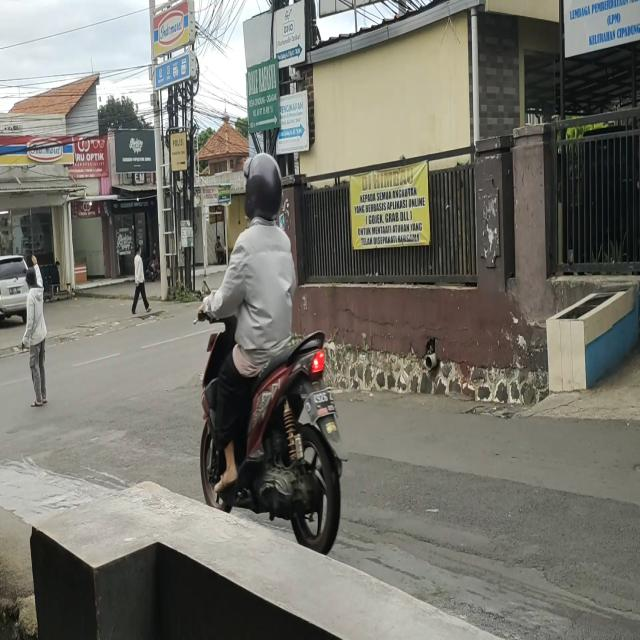helmet: (246, 151, 283, 222)
